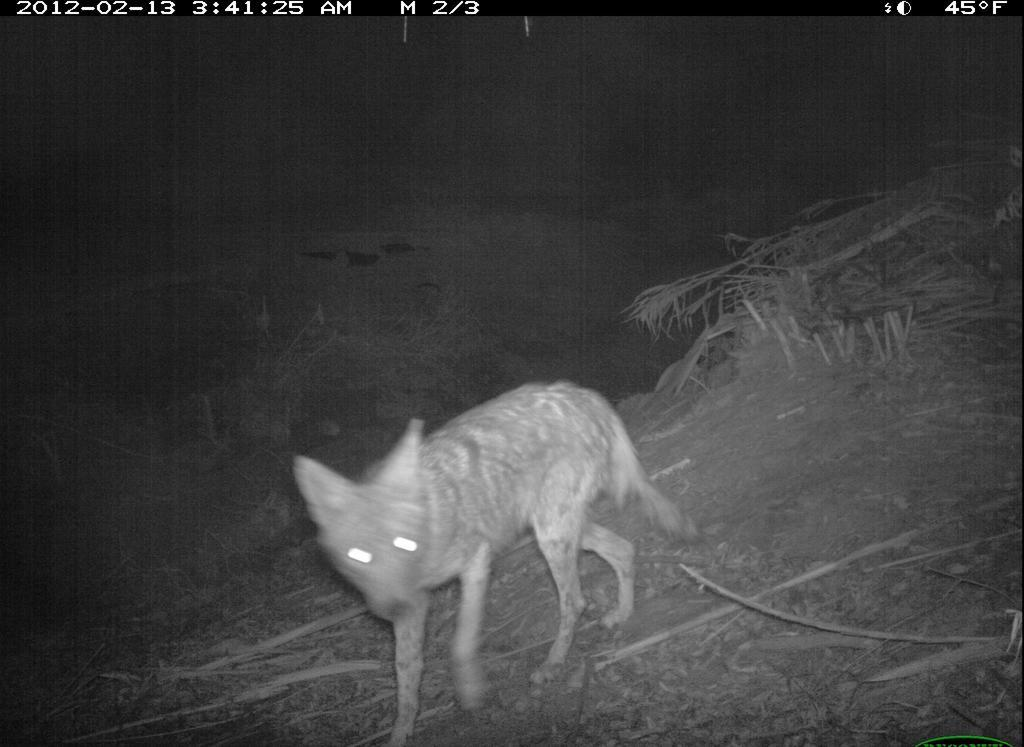coyote: (285, 374, 705, 747)
